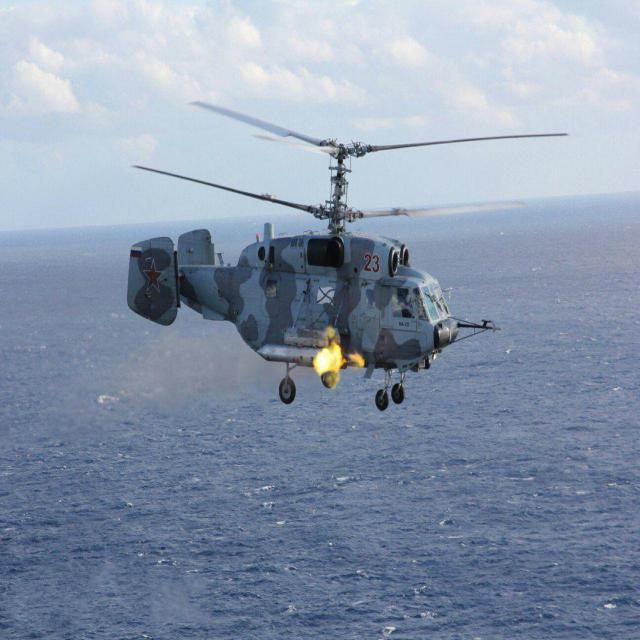MIL_HELO: (114, 88, 574, 428)
